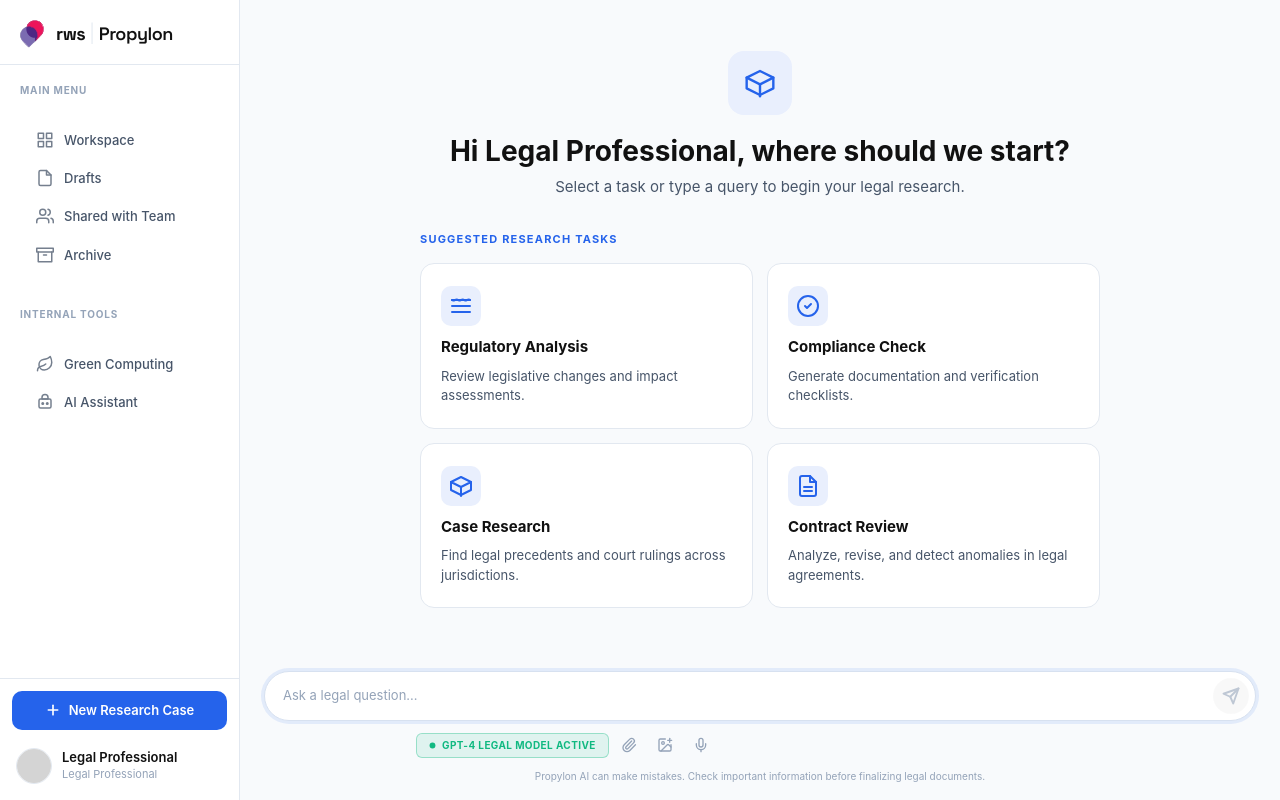
Scenario: AIagentPage › Chat Flow › shows typing indicator while waiting for response
Type "test" into the text box with placeholder "Ask a legal question…" at (744, 696), box x1=283 y1=680 x2=1205 y2=712
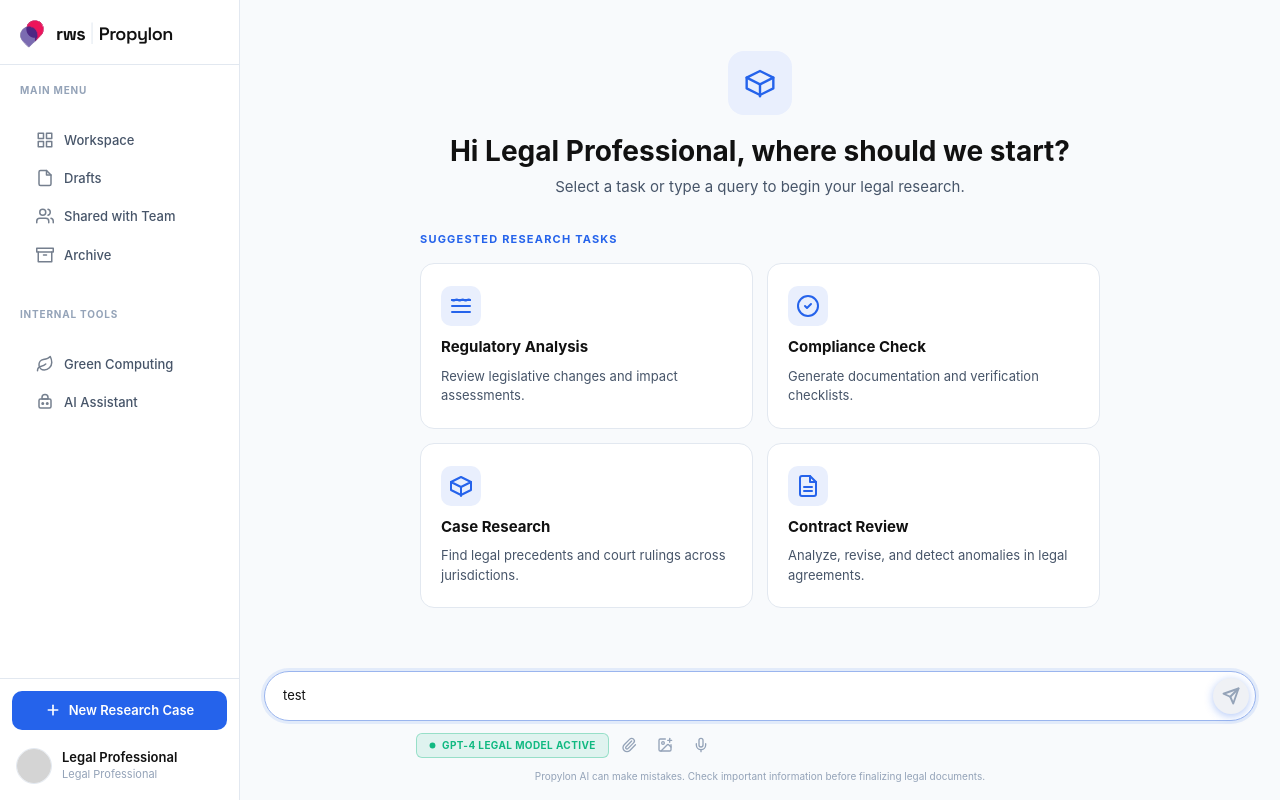
Click the button named "send message" at (1231, 696), box x1=1213 y1=678 x2=1249 y2=714
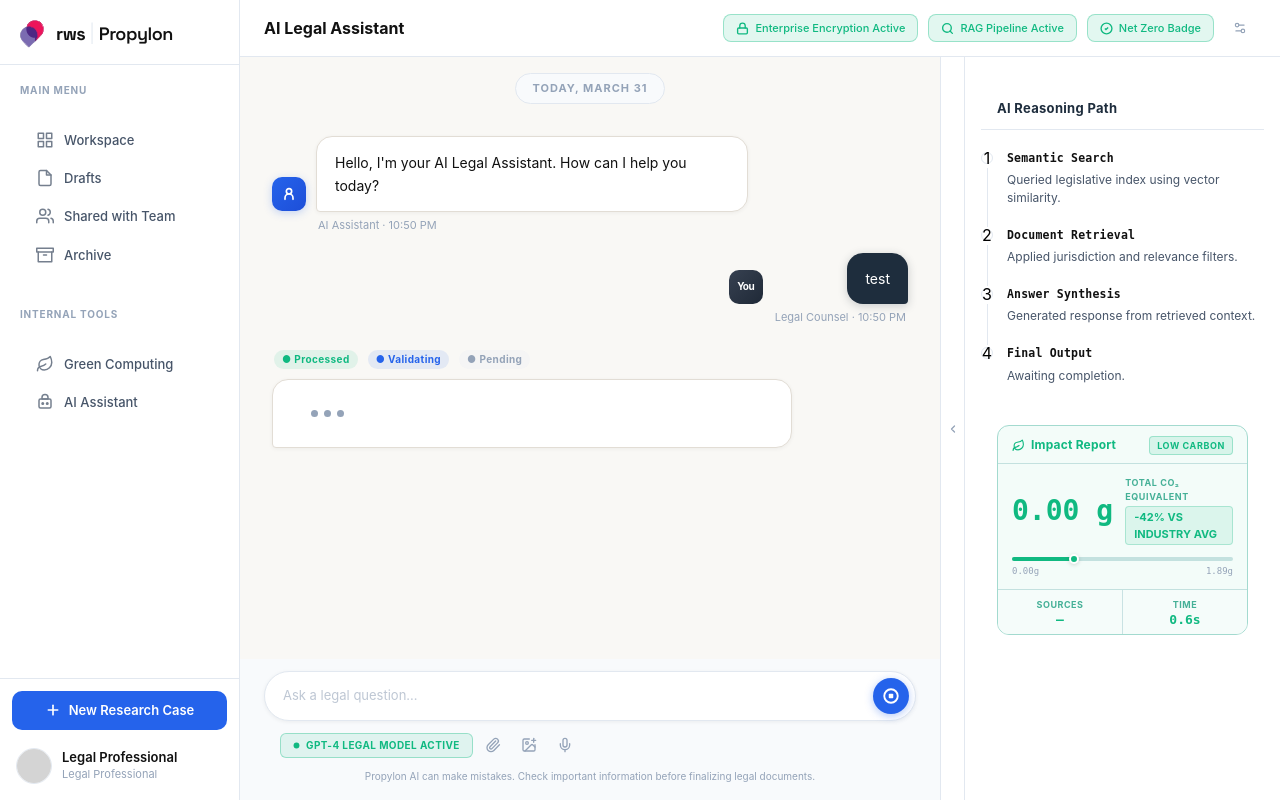
expect the element with class "typing-bubble" is shown: met, box x1=311 y1=410 x2=344 y2=417
